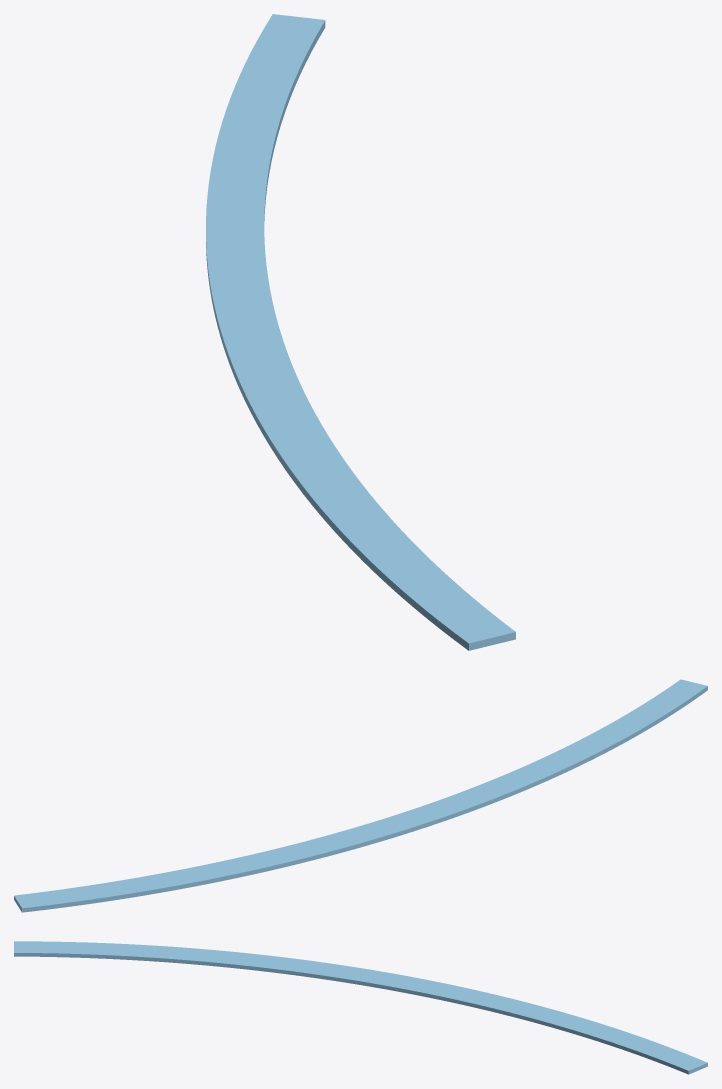
File: CurveSideOuter.dae
The picture shows the model from 3 angles, top to bottom: view 1: azimuth 30°, elevation 25°; view 2: azimuth 150°, elevation 25°; view 3: azimuth 270°, elevation 25°; orthographic projection. The views are drawn at different scales.
Visible parts, largest first — view 1: 5e41f8f882356615c2c139ef; view 2: 5e41f8f882356615c2c139ef; view 3: 5e41f8f882356615c2c139ef.
Part boxes in pixels (left/top/right/bottom): 5e41f8f882356615c2c139ef: left=206, top=14, right=515, bottom=650; 5e41f8f882356615c2c139ef: left=14, top=679, right=707, bottom=912; 5e41f8f882356615c2c139ef: left=14, top=941, right=707, bottom=1074.
Size of the model in its own units: 0.225 by 0.5091 by 0.003.
